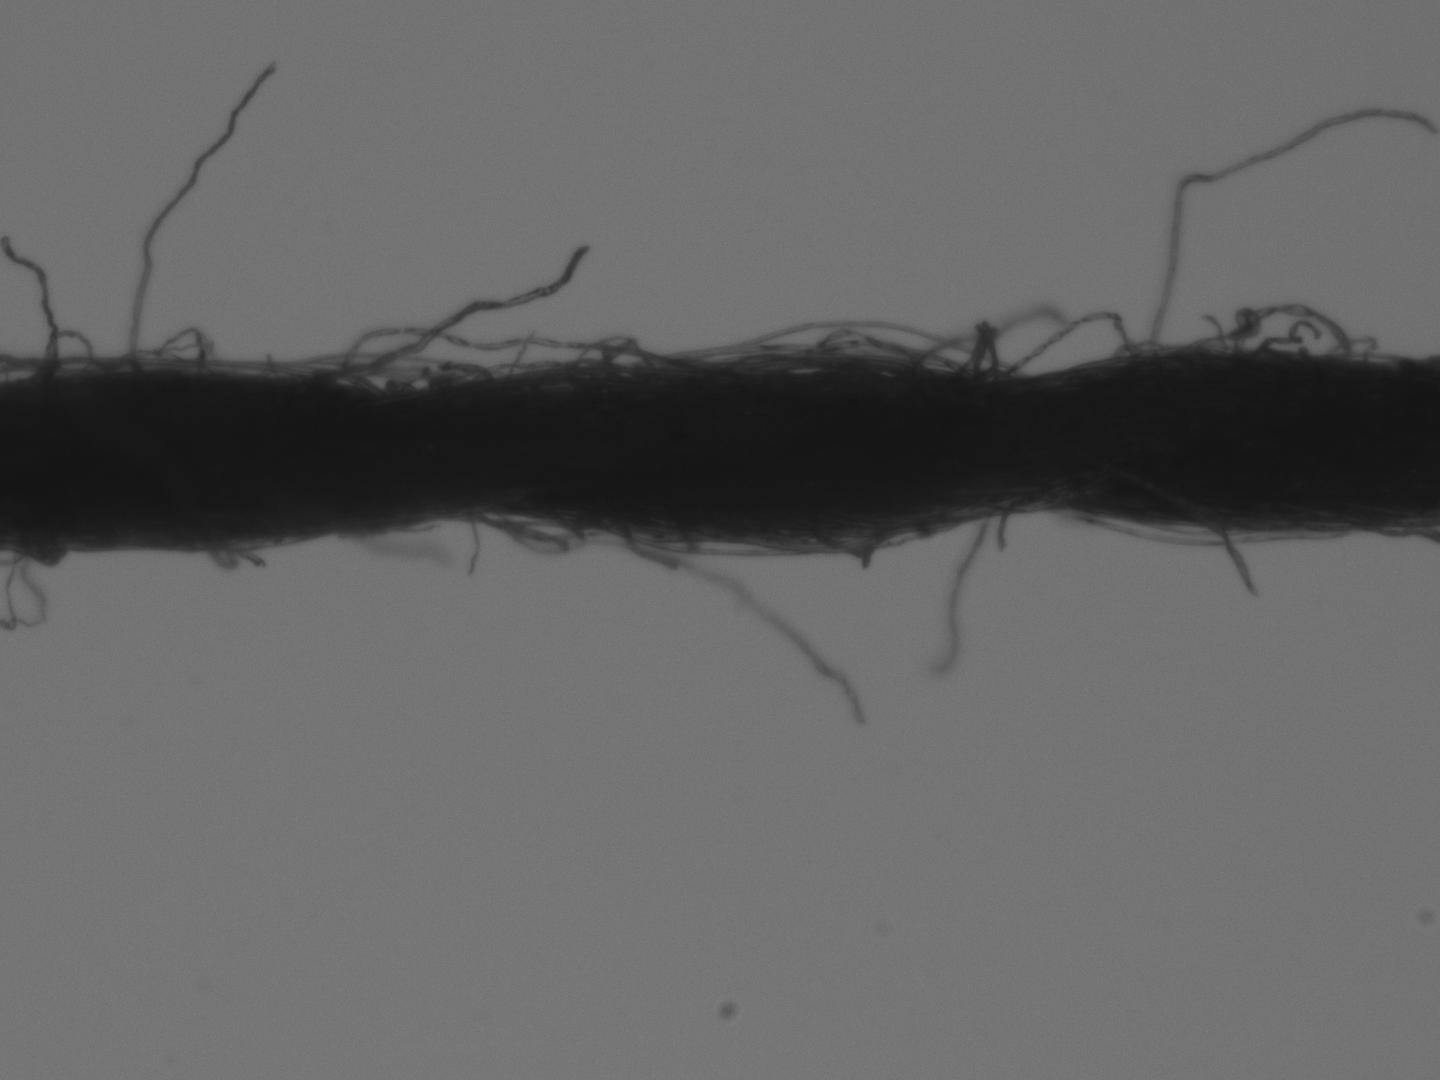loop_fiber: (336, 329, 711, 389), (706, 319, 1014, 378), (1181, 299, 1374, 363), (778, 324, 972, 376), (998, 305, 1136, 377), (270, 355, 489, 393), (476, 516, 612, 554), (803, 522, 915, 563), (150, 327, 213, 370), (36, 331, 96, 377), (576, 335, 651, 369), (620, 521, 697, 552), (203, 541, 263, 569), (16, 543, 76, 567)
protruding_fiber: (128, 56, 279, 372), (313, 243, 590, 381), (929, 521, 991, 676), (1209, 520, 1265, 596), (996, 513, 1008, 554)
